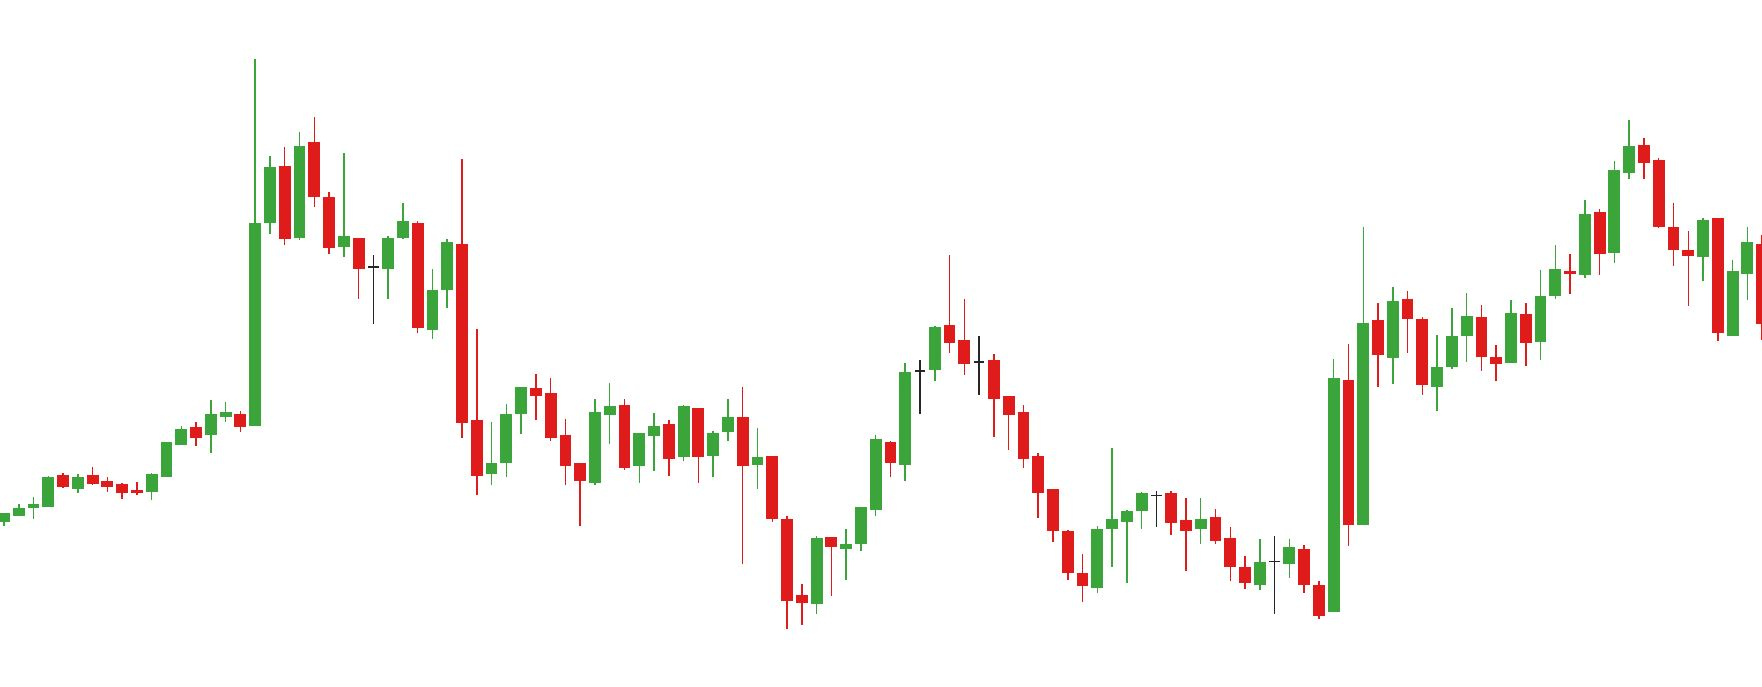buy: (471, 398, 603, 523)
